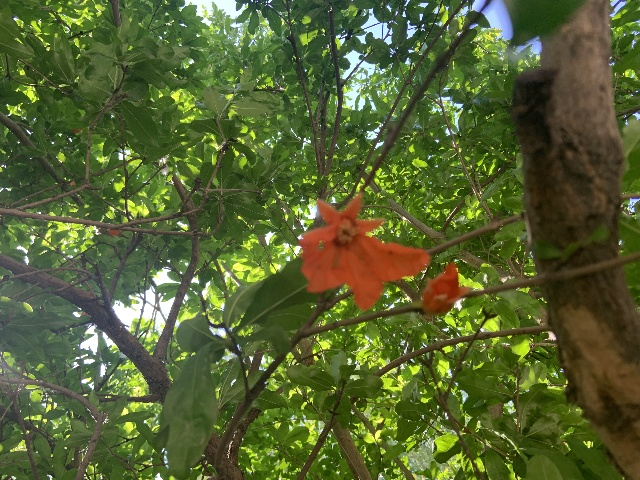flower: (297, 193, 430, 311), (421, 262, 471, 316)
